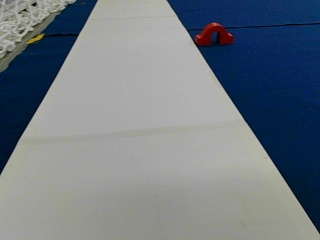bridge: (196, 22, 233, 44)
